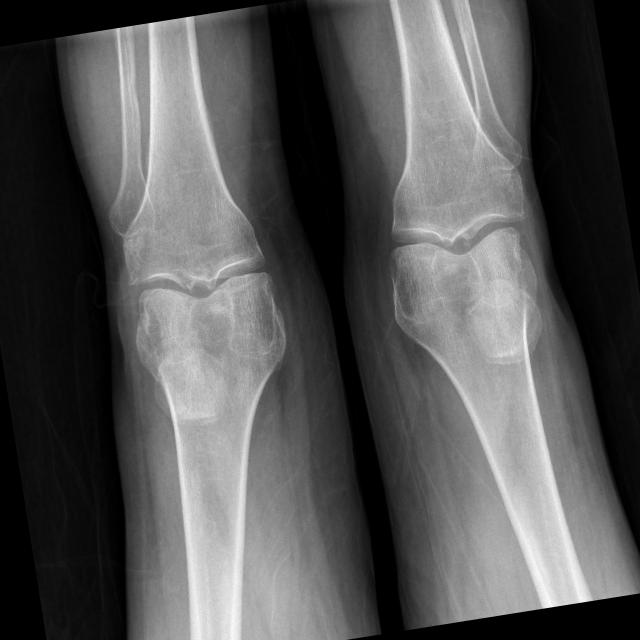Knee: (114, 200, 286, 370), (372, 165, 541, 322)
